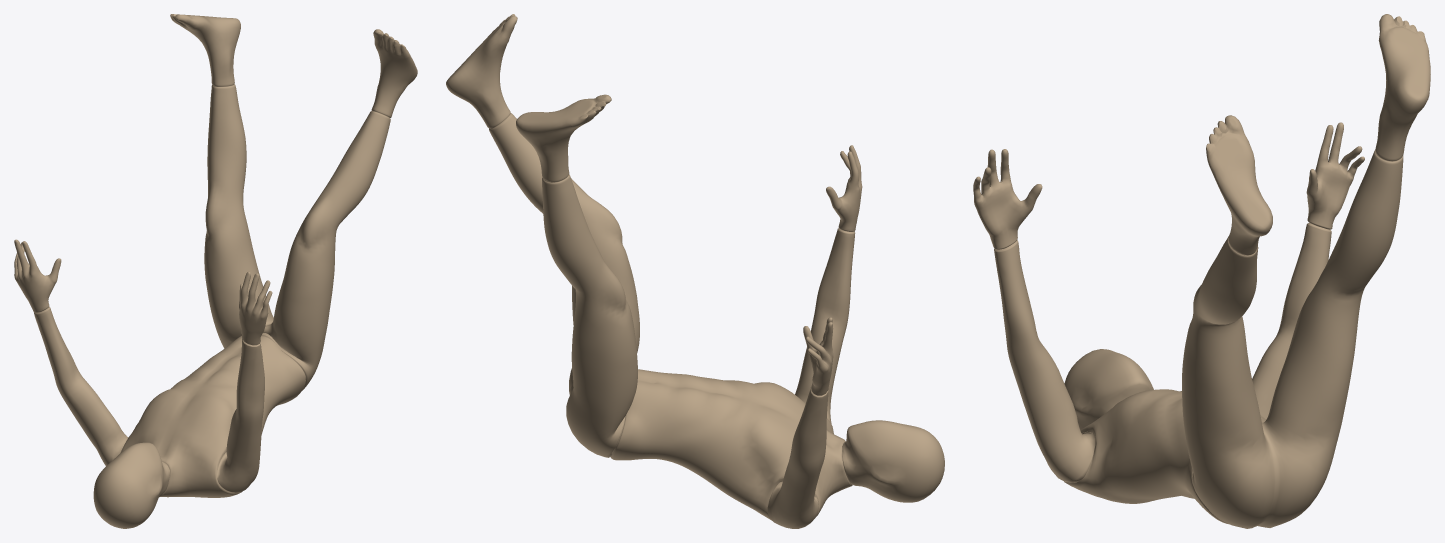
Rendered from guy3.glb.
The picture shows the model from 3 angles, left to right: view 1: azimuth 30°, elevation 25°; view 2: azimuth 150°, elevation 25°; view 3: azimuth 270°, elevation 25°; orthographic projection. The views are drawn at different scales.
Parts seen in each view (by area): view 1: Ch36; view 2: Ch36; view 3: Ch36.
Part boxes in pixels (bbox=[...]): Ch36: bbox=[14, 14, 417, 528]; Ch36: bbox=[446, 14, 944, 528]; Ch36: bbox=[973, 14, 1430, 528].
Size of the model in its own units: 1.19 by 1.21 by 0.9317.
